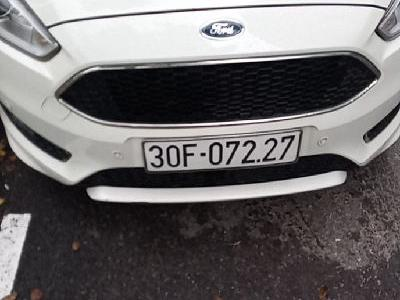lisence: (141, 128, 304, 174)
